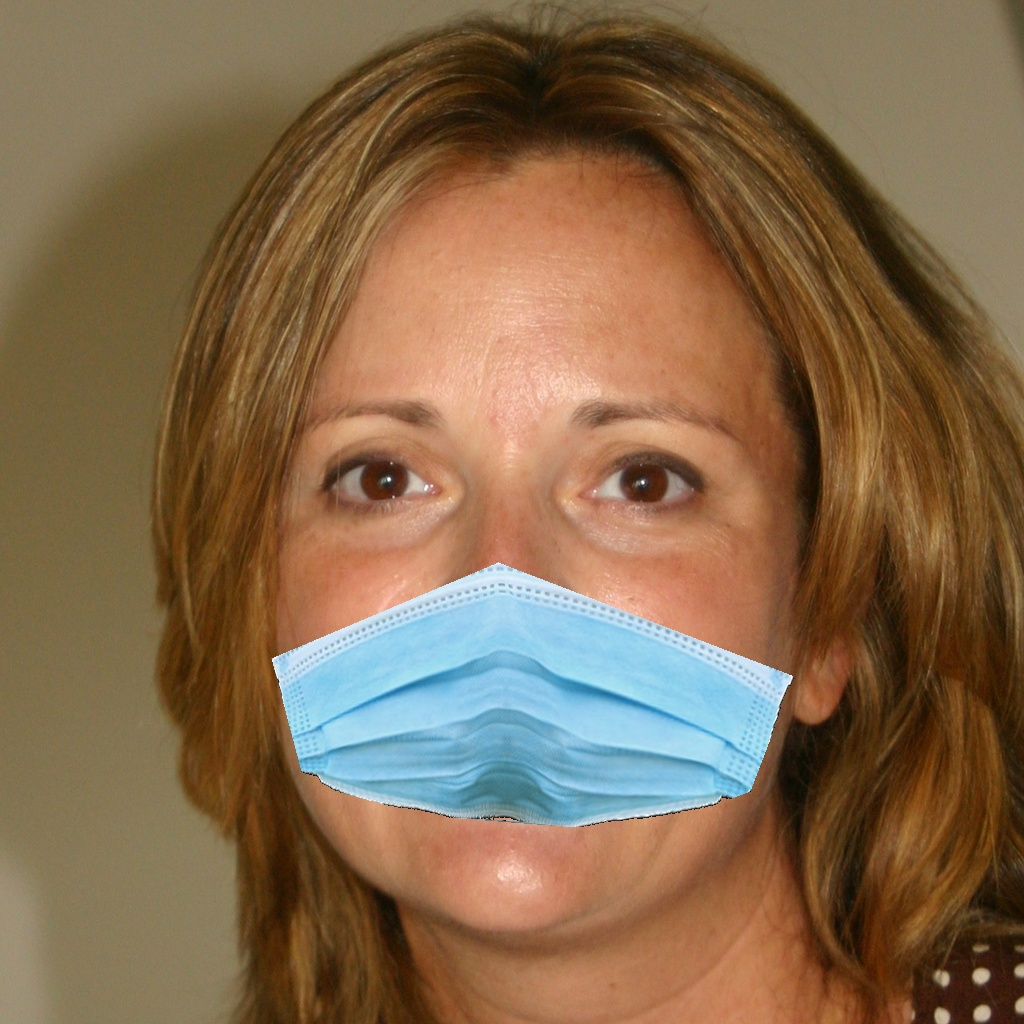mascarilla_mal_puesta: (259, 378, 837, 905)
